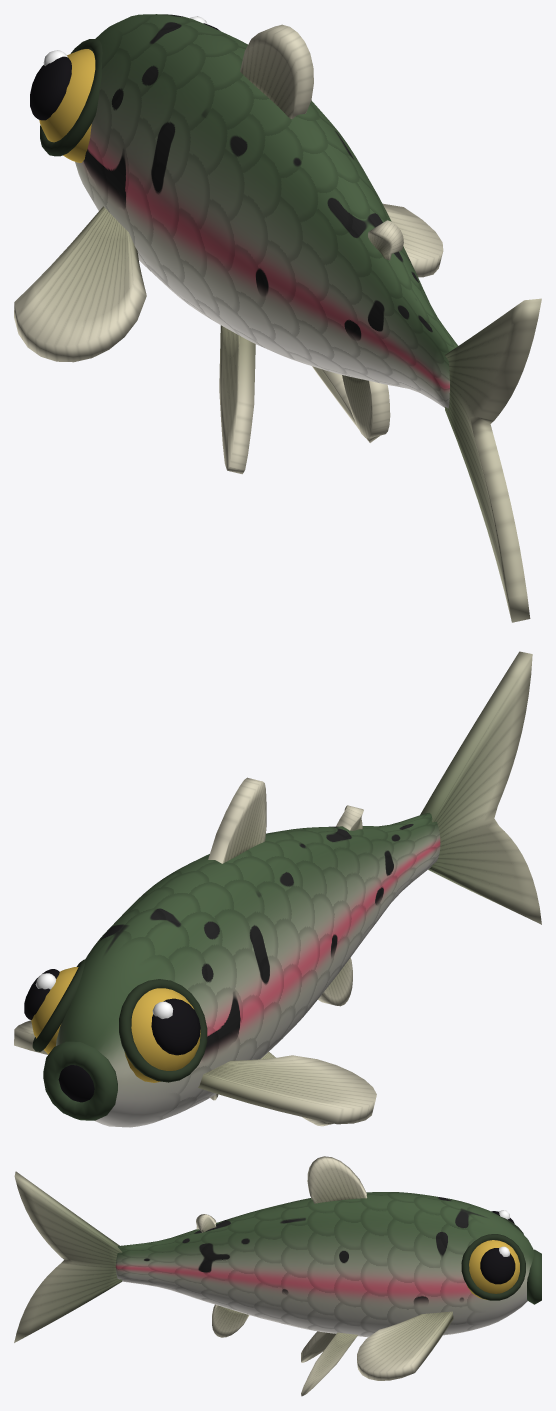
File: RainbowTrout.fbx
3 views of the same model, one above another, from view 1: azimuth 30°, elevation 25°; view 2: azimuth 150°, elevation 25°; view 3: azimuth 270°, elevation 25° (orthographic). The views are drawn at different scales.
Visible parts, largest first — view 1: RainbowTrout; view 2: RainbowTrout; view 3: RainbowTrout.
Boxes of the visible parts, x1,y1,x2,y2 form: RainbowTrout: [14, 14, 541, 622]; RainbowTrout: [14, 651, 541, 1127]; RainbowTrout: [14, 1156, 541, 1396].
Size of the model in its own units: 144 by 139 by 299.
1 material, 1 textured.
